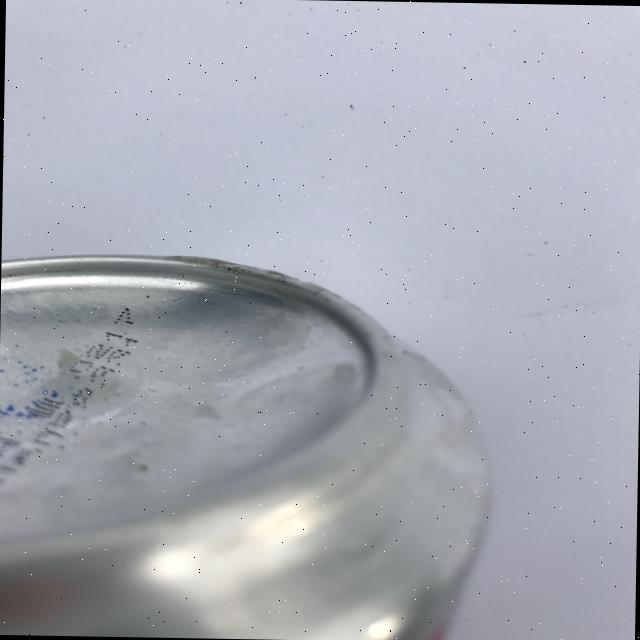metal: (0, 249, 496, 640)
